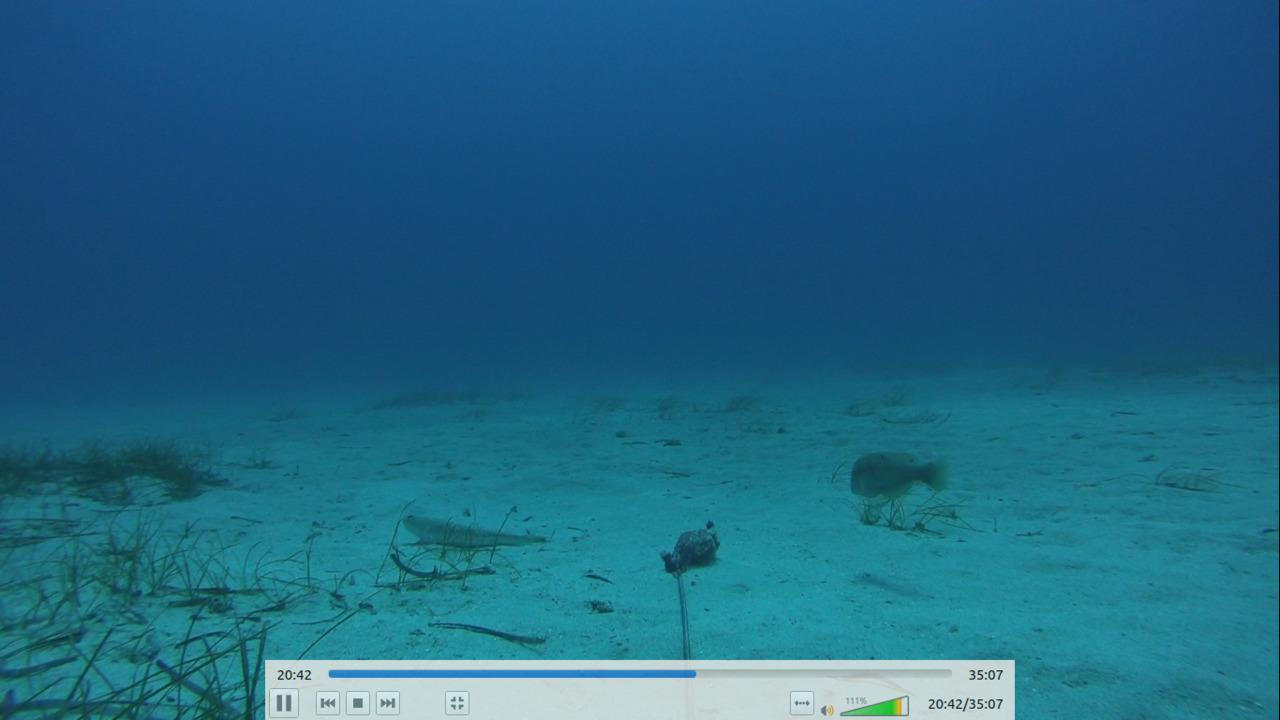raor: (846, 446, 950, 499)
